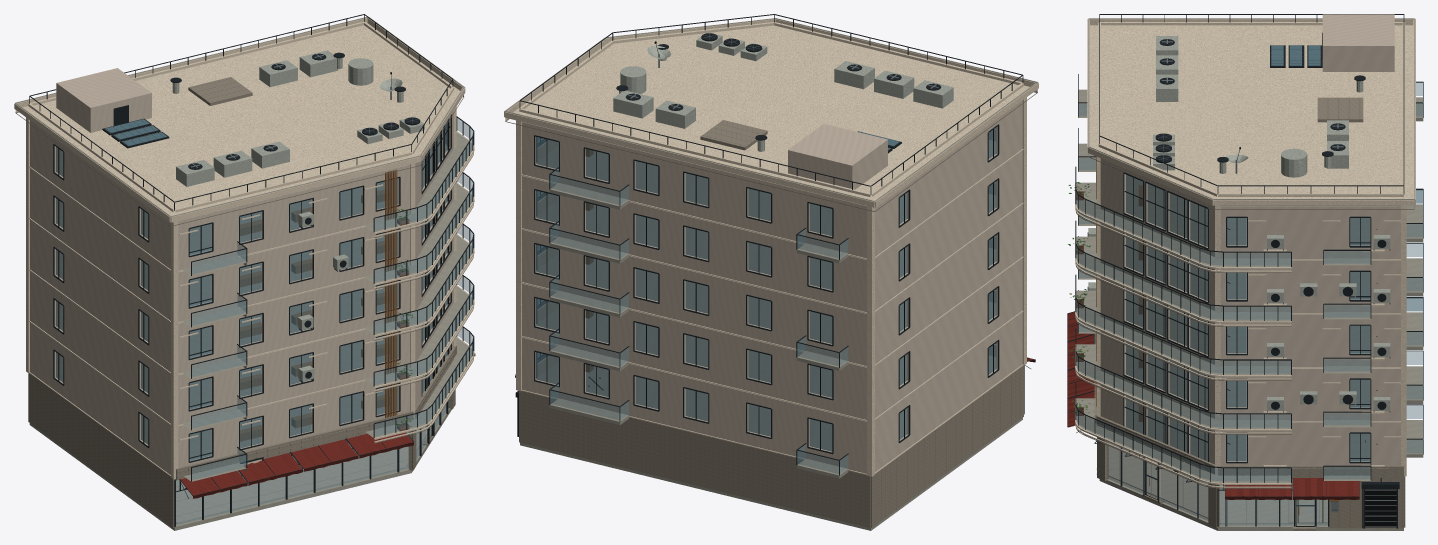
Rendered from HIL04_lod2.glb.
The picture shows the model from 3 angles, left to right: view 1: azimuth 30°, elevation 25°; view 2: azimuth 150°, elevation 25°; view 3: azimuth 270°, elevation 25°; orthographic projection. The views are drawn at different scales.
Visible parts, largest first — view 1: Facade__plaster, Roof__plaster_trim, Structure__concrete, Facade__tintedglass, Facade__glass, Facade__stone, Facade__darkmetal, Details__darkmetal, Roof__utility, Interior__tile, Structure__plaster_trim, Roof__darkmetal (+15 smaller); view 2: Facade__plaster, Roof__plaster_trim, Structure__concrete, Facade__stone, Facade__tintedglass, Facade__darkmetal, Facade__glass, Roof__utility, Structure__plaster_trim, Roof__plaster, Facade__plaster_trim, Roof__darkmetal (+5 smaller); view 3: Roof__plaster_trim, Facade__plaster, Structure__concrete, Facade__glass, Facade__tintedglass, Details__darkmetal, Details__plaster_trim, Facade__darkmetal, Interior__tile, Facade__stone, Roof__plaster, Structure__plaster_trim (+16 smaller).
Boxes of the visible parts, box(x1,y1,x2,y2) form: Facade__plaster: box(30, 111, 453, 474); Roof__plaster_trim: box(14, 17, 465, 222); Structure__concrete: box(29, 132, 472, 530); Facade__tintedglass: box(56, 121, 447, 460); Facade__glass: box(176, 118, 472, 524); Facade__stone: box(28, 345, 456, 527); Facade__darkmetal: box(53, 114, 451, 526); Details__darkmetal: box(179, 116, 475, 498); Roof__utility: box(172, 50, 424, 186); Interior__tile: box(176, 404, 446, 523); Structure__plaster_trim: box(26, 107, 456, 479); Roof__darkmetal: box(29, 14, 453, 210); Facade__plaster: box(522, 100, 1022, 473); Roof__plaster_trim: box(504, 19, 1038, 207); Structure__concrete: box(520, 140, 1022, 530); Facade__stone: box(519, 365, 1023, 527); Facade__tintedglass: box(536, 127, 996, 451); Facade__darkmetal: box(534, 124, 1024, 454); Facade__glass: box(550, 168, 847, 473); Roof__utility: box(613, 32, 953, 151); Structure__plaster_trim: box(516, 97, 1026, 476); Roof__plaster: box(788, 124, 887, 189); Facade__plaster_trim: box(521, 149, 1023, 474); Roof__darkmetal: box(519, 14, 1023, 194); Roof__plaster_trim: box(1087, 19, 1415, 205); Facade__plaster: box(1100, 158, 1400, 465); Structure__concrete: box(1076, 89, 1423, 530); Facade__glass: box(1076, 83, 1422, 525); Facade__tintedglass: box(1126, 174, 1369, 461); Details__darkmetal: box(1067, 74, 1423, 528); Details__plaster_trim: box(1075, 183, 1401, 487); Facade__darkmetal: box(1120, 172, 1371, 526); Interior__tile: box(1108, 442, 1327, 523); Facade__stone: box(1095, 329, 1405, 528); Roof__plaster: box(1322, 14, 1394, 71); Structure__plaster_trim: box(1096, 157, 1406, 476).
Size of the model in its own units: 26.59 by 23.31 by 21.09.
27 materials, 27 textured.
